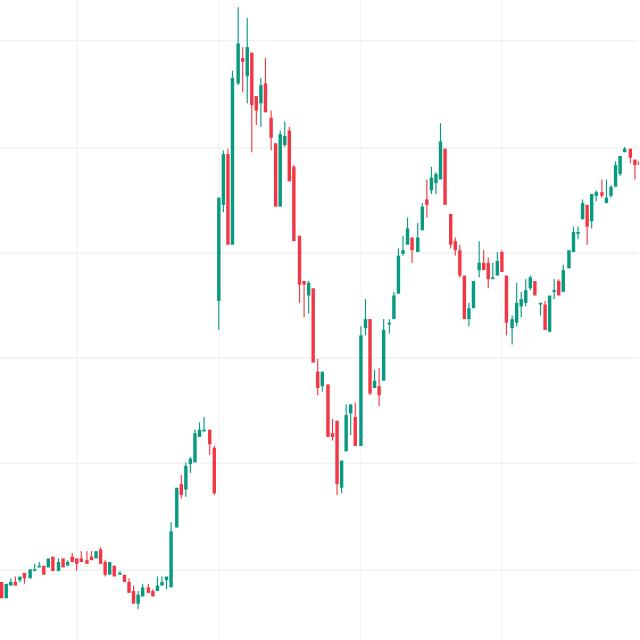Triple-Bottom: (451, 241, 579, 350)
